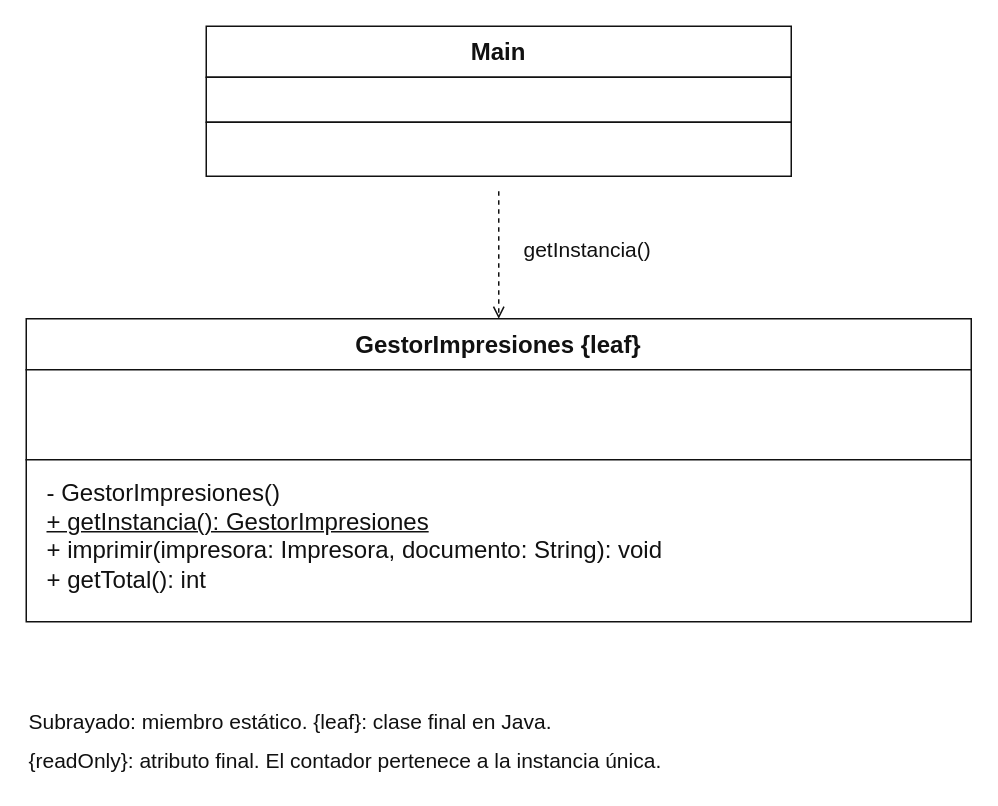
Some shapes in this 998 by 806 pixel diagram are drawn without their labels. Here are the shapes that lost their labels. From the top down, the centre of each, then its label:
At pixel 498 148: "+ main(args: String[]): void".
At pixel 498 414: "- INSTANCIA: GestorImpresiones {readOnly} - total: int = 0".
